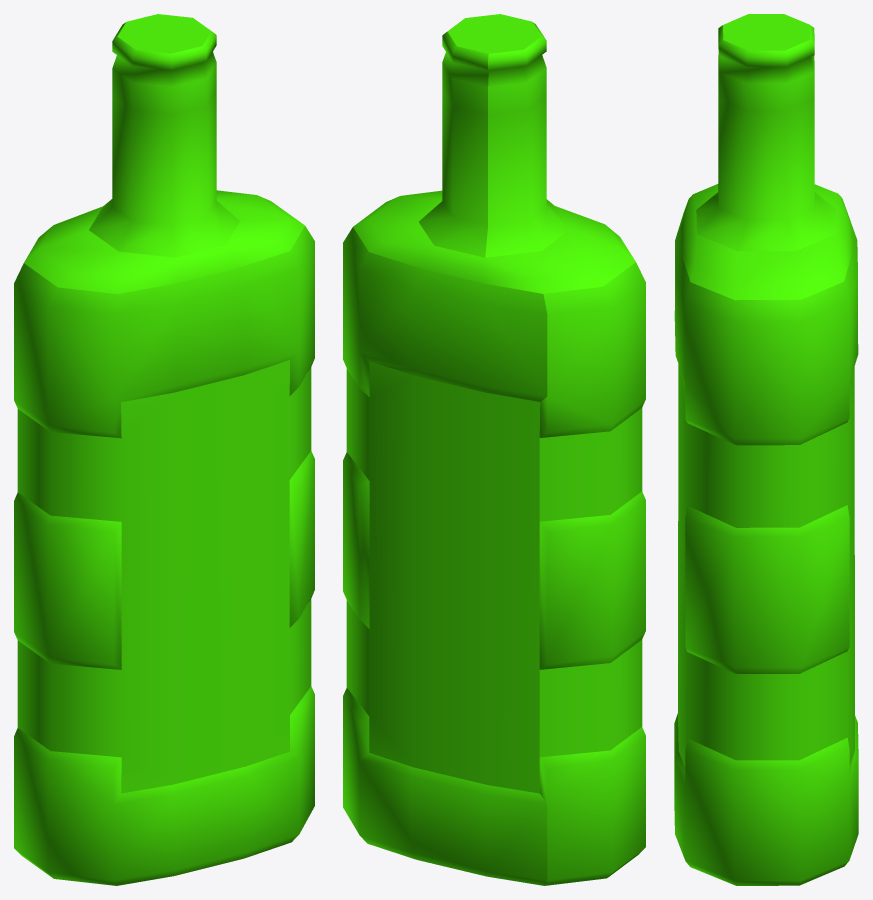
Rendered from 20_becherovka.gltf.
3 views of the same model, side by side, from view 1: azimuth 30°, elevation 25°; view 2: azimuth 150°, elevation 25°; view 3: azimuth 270°, elevation 25° (orthographic).
Visible parts, largest first — view 1: Becherovka_Atlas_0; view 2: Becherovka_Atlas_0; view 3: Becherovka_Atlas_0.
Boxes of the visible parts, bbox=[...] form: Becherovka_Atlas_0: bbox=[14, 14, 314, 885]; Becherovka_Atlas_0: bbox=[343, 14, 645, 885]; Becherovka_Atlas_0: bbox=[674, 14, 858, 885].
Size of the model in its own units: 8.47 by 24.16 by 5.1.
1 material, 1 textured.
